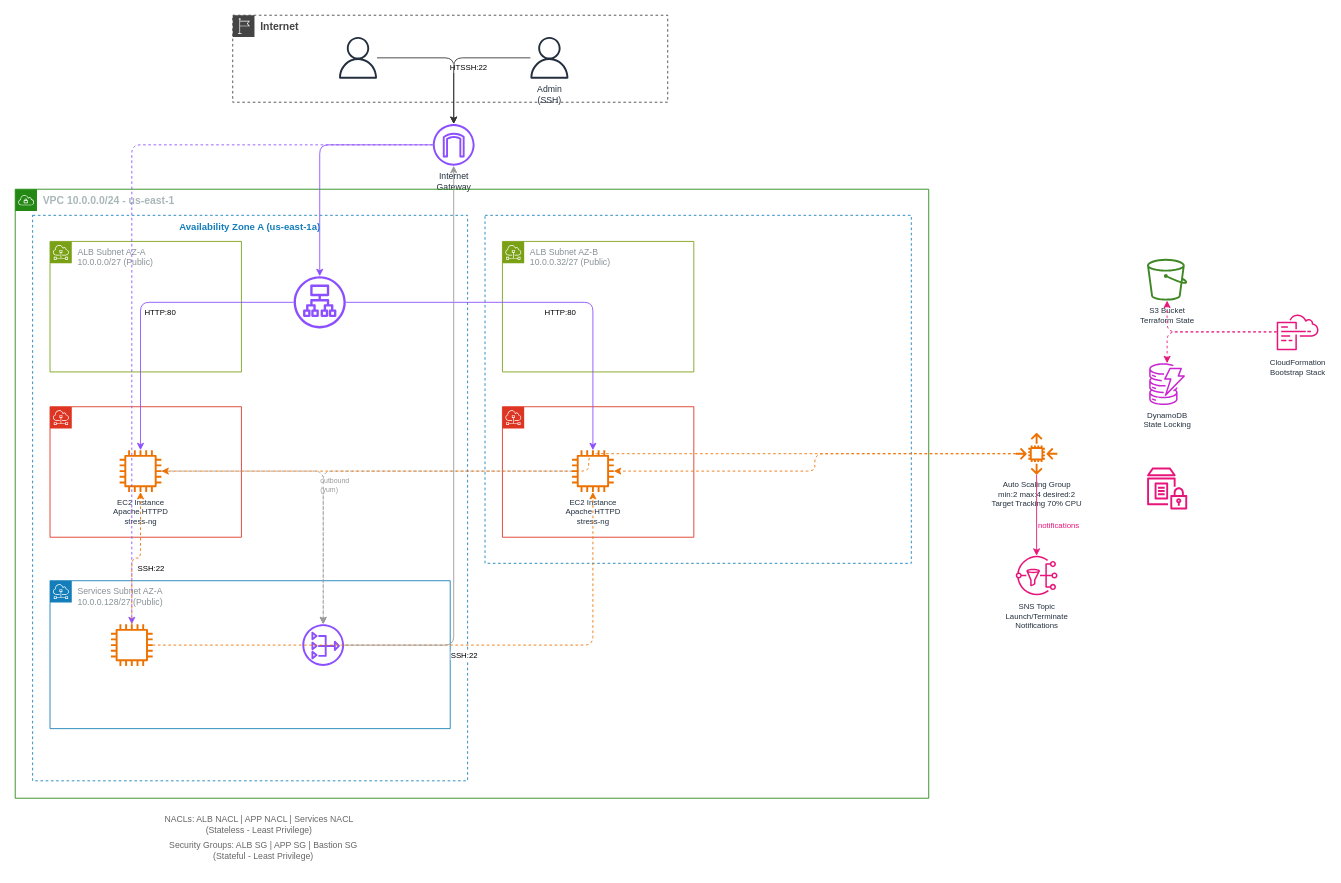
Some shapes in this 1341 by 883 pixel diagram are drawn without their labels. The box of each missing label's shape, as (x1, y1, x2, y2) in pixels:
APP Subnet AZ-A 10.0.0.64/27 (Private): (49, 406, 241, 537)
APP Subnet AZ-B 10.0.0.96/27 (Private): (502, 406, 694, 537)
Application Load Balancer (HTTP:80 - spans both AZs): (293, 276, 345, 328)
Availability Zone B (us-east-1b): (484, 214, 911, 563)
Bastion Host t3.micro: (110, 624, 152, 666)
NAT Gateway: (302, 624, 344, 666)
SSM Parameter Store (Private Key): (1146, 467, 1188, 509)
User (Browser): (337, 37, 378, 78)
